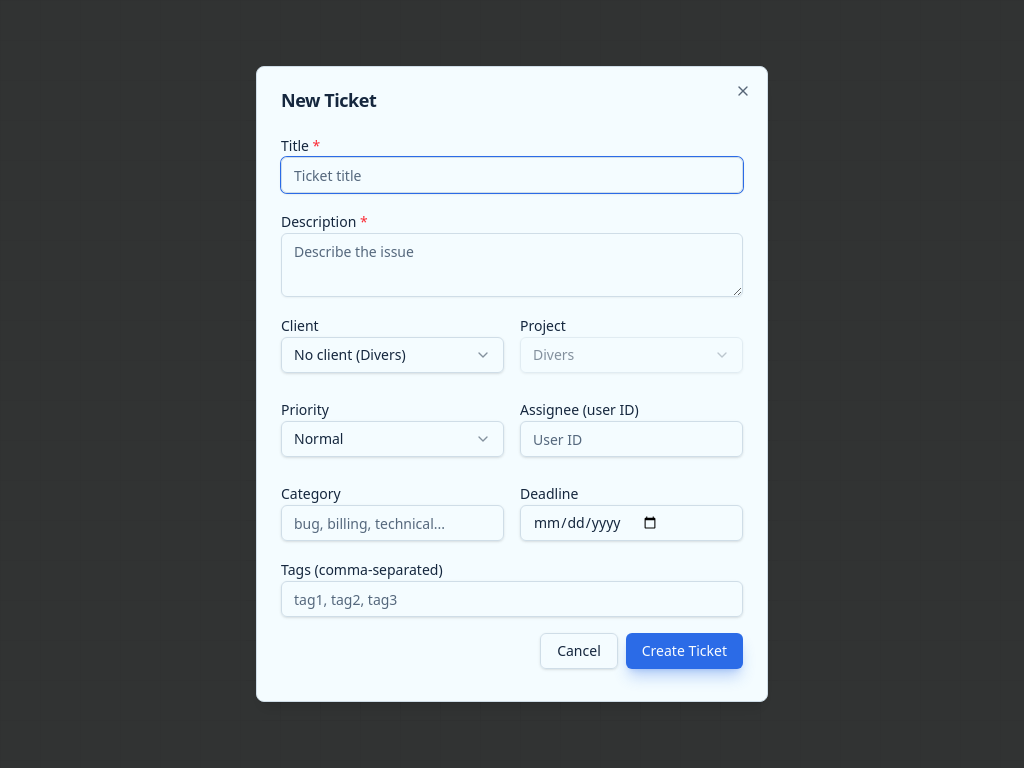
Test: TicketFormDialog › shows validation error when title is empty
Click the button "Create Ticket" at (684, 651), box [626,633,743,669]
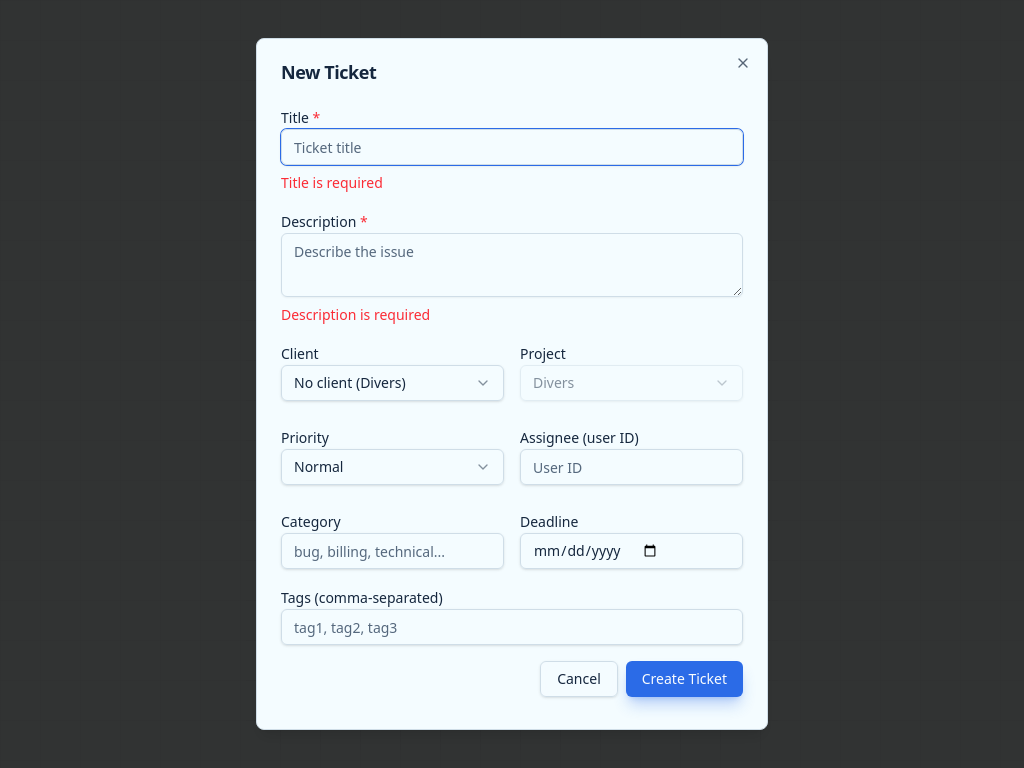
expect the text "Title is required" is shown: met, box [281,173,383,192]
